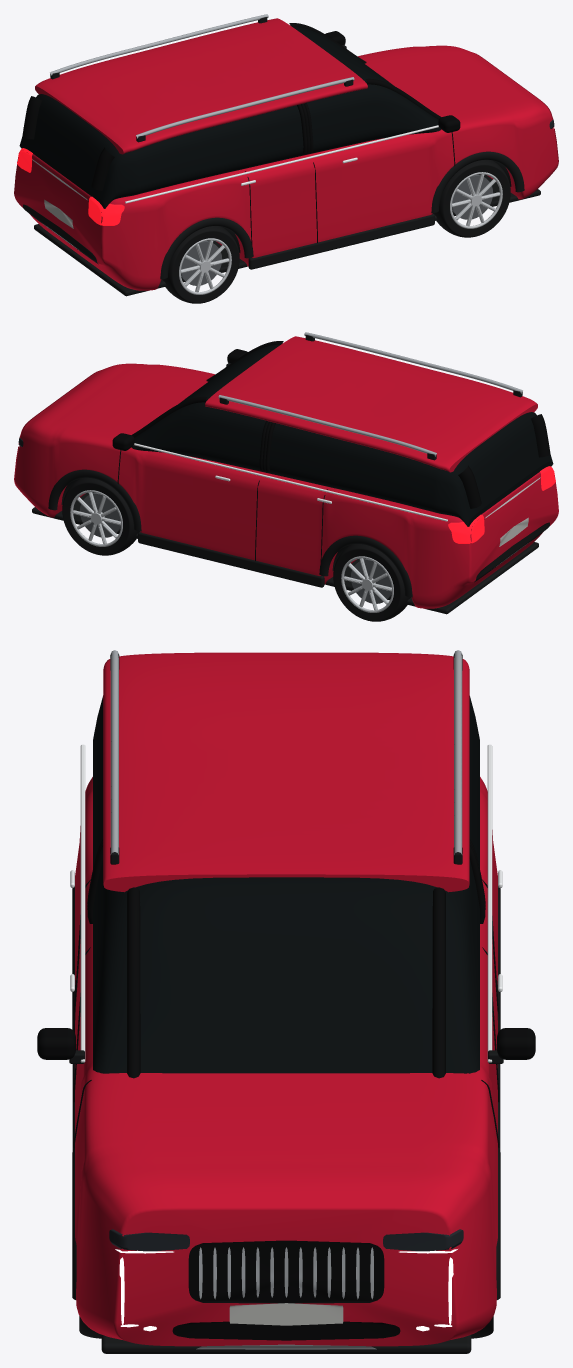
File: mahindra-xuv700.glb
3 renders of one model, top to bottom at view 1: azimuth 30°, elevation 25°; view 2: azimuth 150°, elevation 25°; view 3: azimuth 270°, elevation 25°, orthographic. The views are drawn at different scales.
Visible parts, largest first — view 1: Body, Roof, Glasshouse, Trim (×5), Tyre (×2), RoofRail (×2), Disc (×2), Pillar (×3), Rim (×2), Chrome, Taillamp; view 2: Body, Roof, Glasshouse, Trim (×5), Tyre (×2), RoofRail (×2), Disc (×2), Pillar (×3), Rim (×2), Chrome, Taillamp; view 3: Body, Roof, Glasshouse, GlossBlack (×4), Pillar (×2), Chrome (×2), RoofRail (×2), Trim, Headlamp (×2), Plate, Silver.
Part boxes in pixels (x1,y1,x2,y2): Body: [14, 45, 558, 290]; Roof: [35, 18, 367, 154]; Glasshouse: [19, 26, 441, 208]; Trim (×5): [23, 151, 540, 296]; Tyre (×2): [162, 160, 510, 303]; RoofRail (×2): [50, 14, 354, 138]; Disc (×2): [181, 175, 492, 285]; Pillar (×3): [22, 78, 441, 190]; Rim (×2): [179, 172, 502, 294]; Chrome: [125, 125, 438, 203]; Taillamp: [88, 196, 124, 225]; Body: [14, 363, 558, 608]; Roof: [205, 336, 537, 472]; Glasshouse: [131, 344, 553, 526]; Trim (×5): [32, 469, 549, 614]; Tyre (×2): [62, 478, 410, 621]; RoofRail (×2): [218, 332, 522, 456]; Disc (×2): [80, 493, 391, 603]; Pillar (×3): [131, 396, 550, 508]; Rim (×2): [70, 490, 393, 612]; Chrome: [134, 443, 447, 521]; Taillamp: [448, 514, 484, 543]; Body: [75, 777, 497, 1346]; Roof: [103, 652, 469, 892]; Glasshouse: [93, 695, 479, 1073]; GlossBlack (×4): [37, 1028, 535, 1340]; Pillar (×2): [127, 887, 445, 1078]; Chrome (×2): [80, 744, 492, 1062]; RoofRail (×2): [110, 650, 462, 854]; Trim: [101, 1335, 471, 1353]; Headlamp (×2): [109, 1229, 463, 1251]; Plate: [229, 1303, 343, 1325]; Silver: [196, 1344, 376, 1349].
Size of the model in its own units: 4.66 by 1.78 by 2.19.
